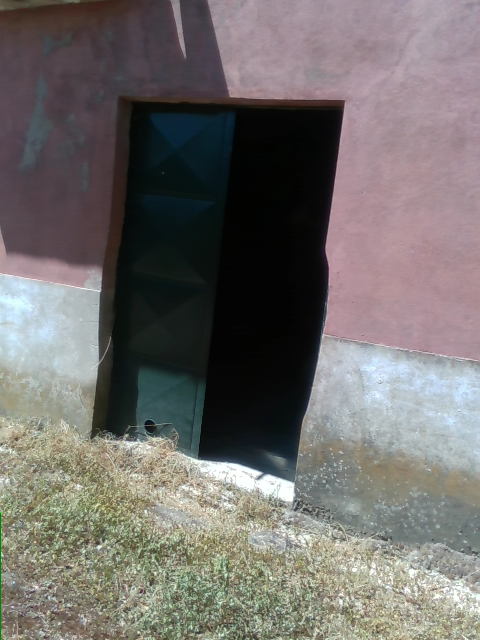open: (86, 98, 350, 503)
